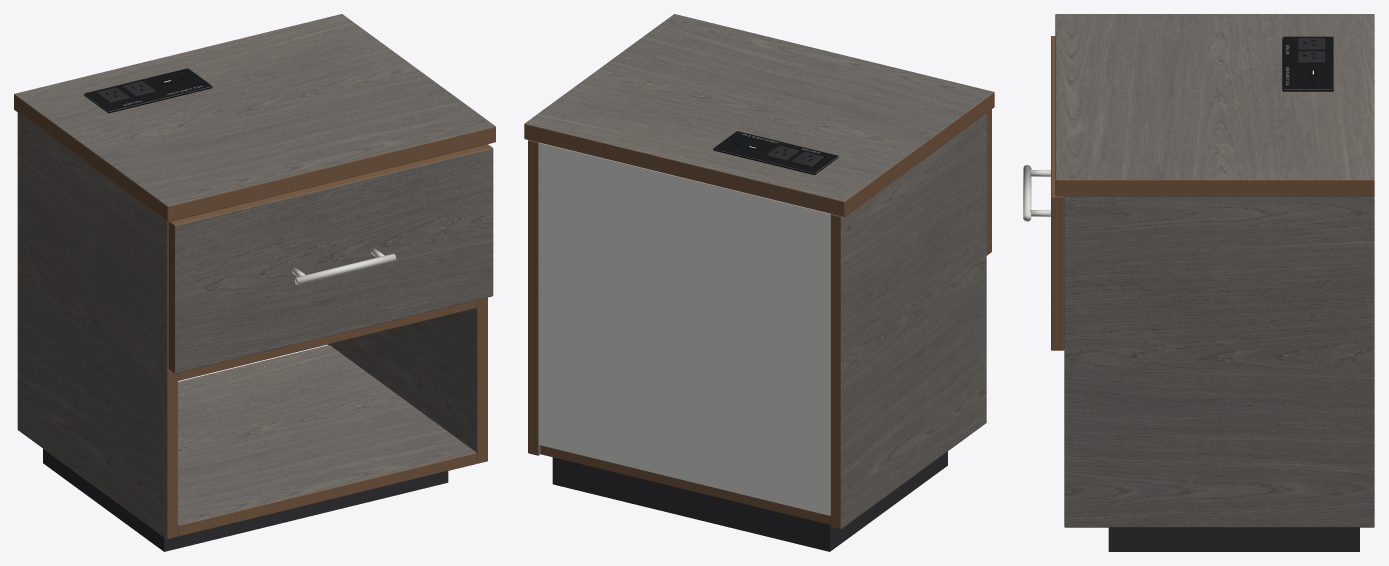
File: hotel-nightstand.glb
The picture shows the model from 3 angles, left to right: view 1: azimuth 30°, elevation 25°; view 2: azimuth 150°, elevation 25°; view 3: azimuth 270°, elevation 25°; orthographic projection. The views are drawn at different scales.
Visible parts, largest first — view 1: laminate, drawer_nightstand, black_plastic, module_face; view 2: laminate, melamine_white, black_plastic, module_face, drawer_nightstand; view 3: laminate, black_plastic, drawer_nightstand, module_face.
Boxes of the visible parts, bbox=[...] form: laminate: bbox=[14, 14, 495, 539]; drawer_nightstand: bbox=[168, 144, 493, 373]; black_plastic: bbox=[43, 449, 448, 551]; module_face: bbox=[84, 68, 212, 113]; laminate: bbox=[524, 14, 994, 529]; melamine_white: bbox=[538, 142, 830, 515]; black_plastic: bbox=[552, 451, 947, 551]; module_face: bbox=[713, 131, 838, 174]; drawer_nightstand: bbox=[986, 109, 991, 255]; laminate: bbox=[1055, 14, 1374, 527]; black_plastic: bbox=[1108, 527, 1359, 551]; drawer_nightstand: bbox=[1023, 36, 1064, 350]; module_face: bbox=[1282, 36, 1333, 91].
Bounding box in the file's own units: 0.532 × 0.5805 × 0.4755.
12 materials, 4 textured.
